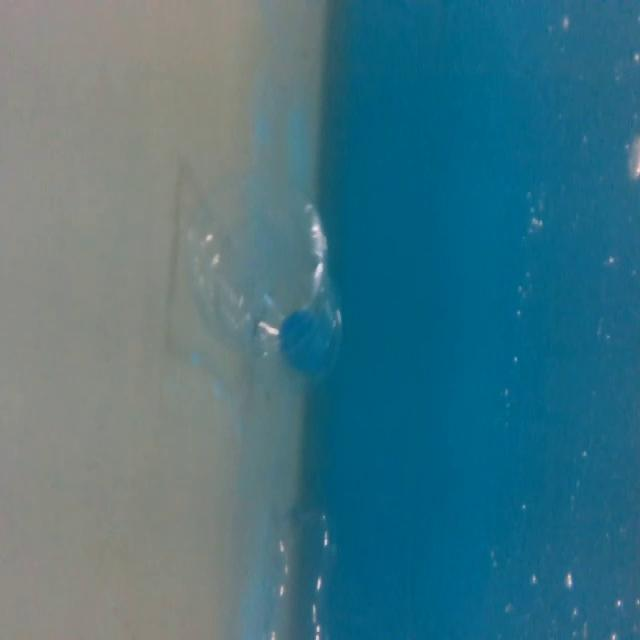plastic bottle: (180, 162, 358, 388), (258, 496, 342, 640)
